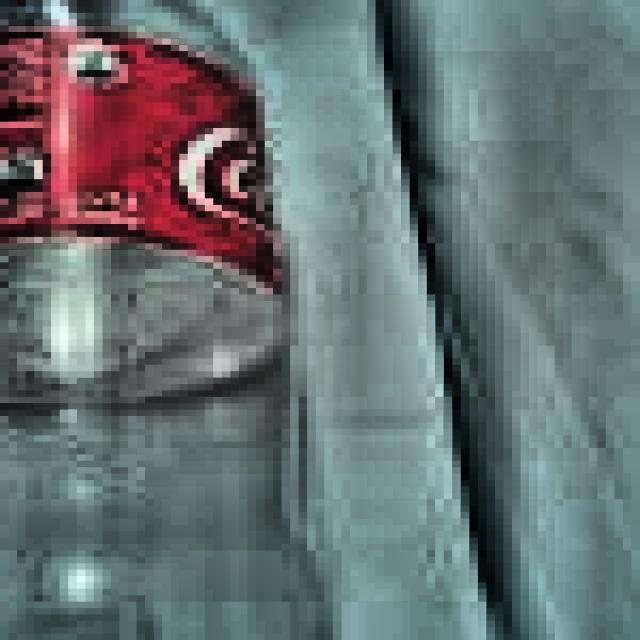plastic: (0, 0, 333, 640)
